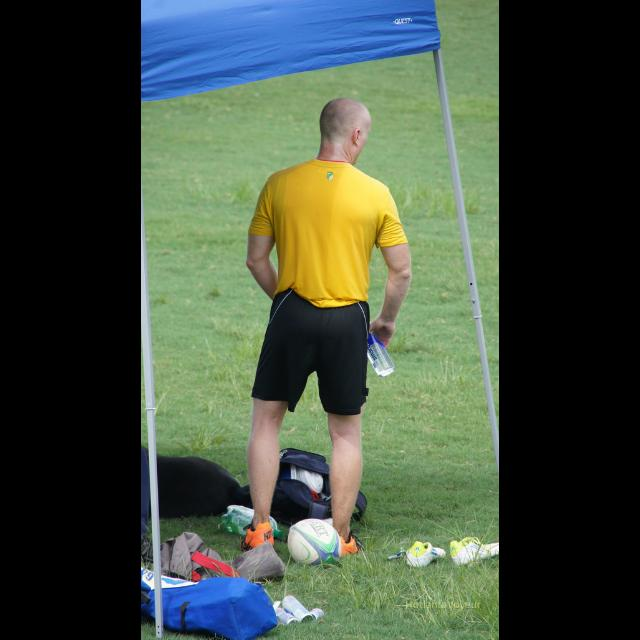Football: (284, 517, 340, 563)
